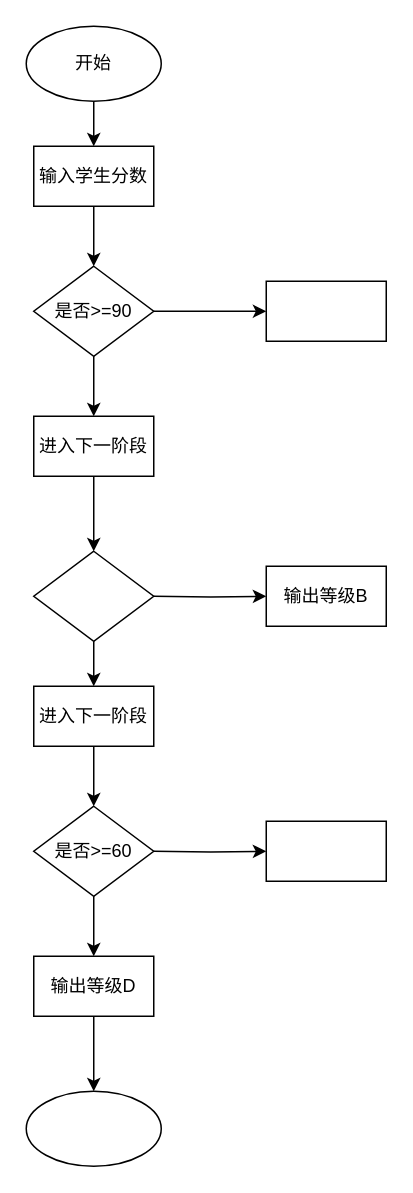
Image size: 413x1193. Some labels were removed from this diagram. The box of each missing label's shape, as (x1, y1, x2, y2) in pixels:
是否>=80: (32, 550, 154, 641)
结束: (25, 1090, 161, 1166)
输出等级A: (265, 280, 386, 341)
输出等级C: (265, 820, 386, 881)
